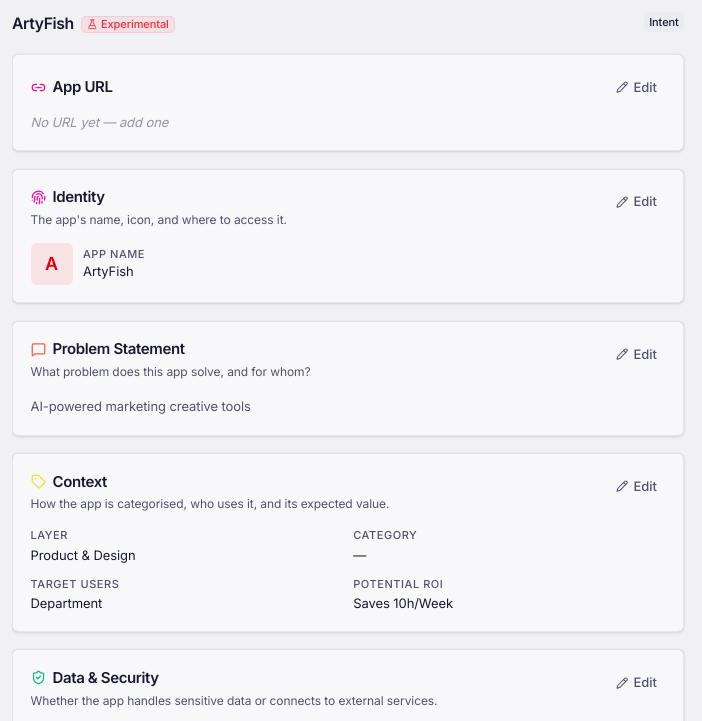
it: AppProfileClient › enters edit mode when Edit is clicked on Problem Statement section
Click the button "Edit" in the row of "Problem Statement".
click(636, 354)  # box [607,339,666,369]
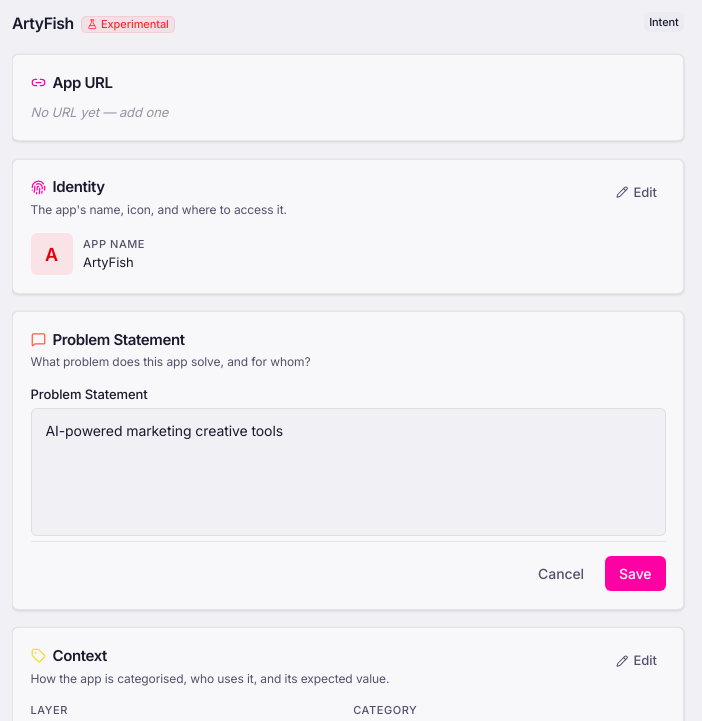
Check: the button "Save" is shown, box [605,556,666,591]
Check: the text box labelled "Problem Statement" is shown, box [30,408,666,536]
